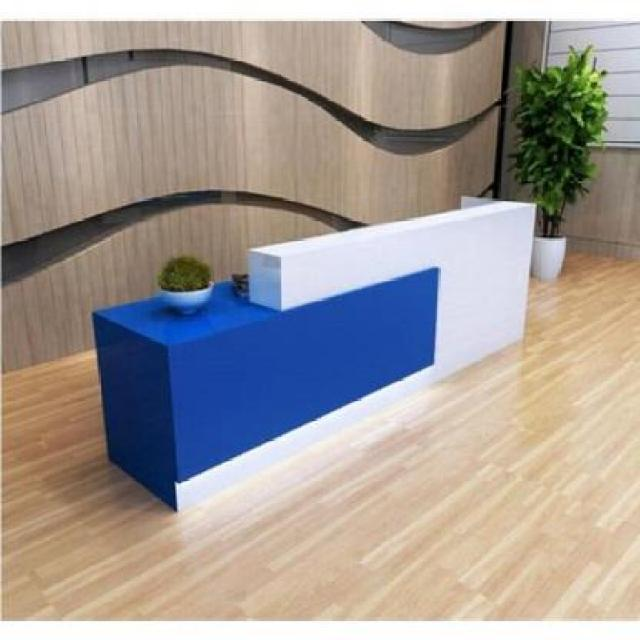frontdesk: (91, 192, 541, 515)
